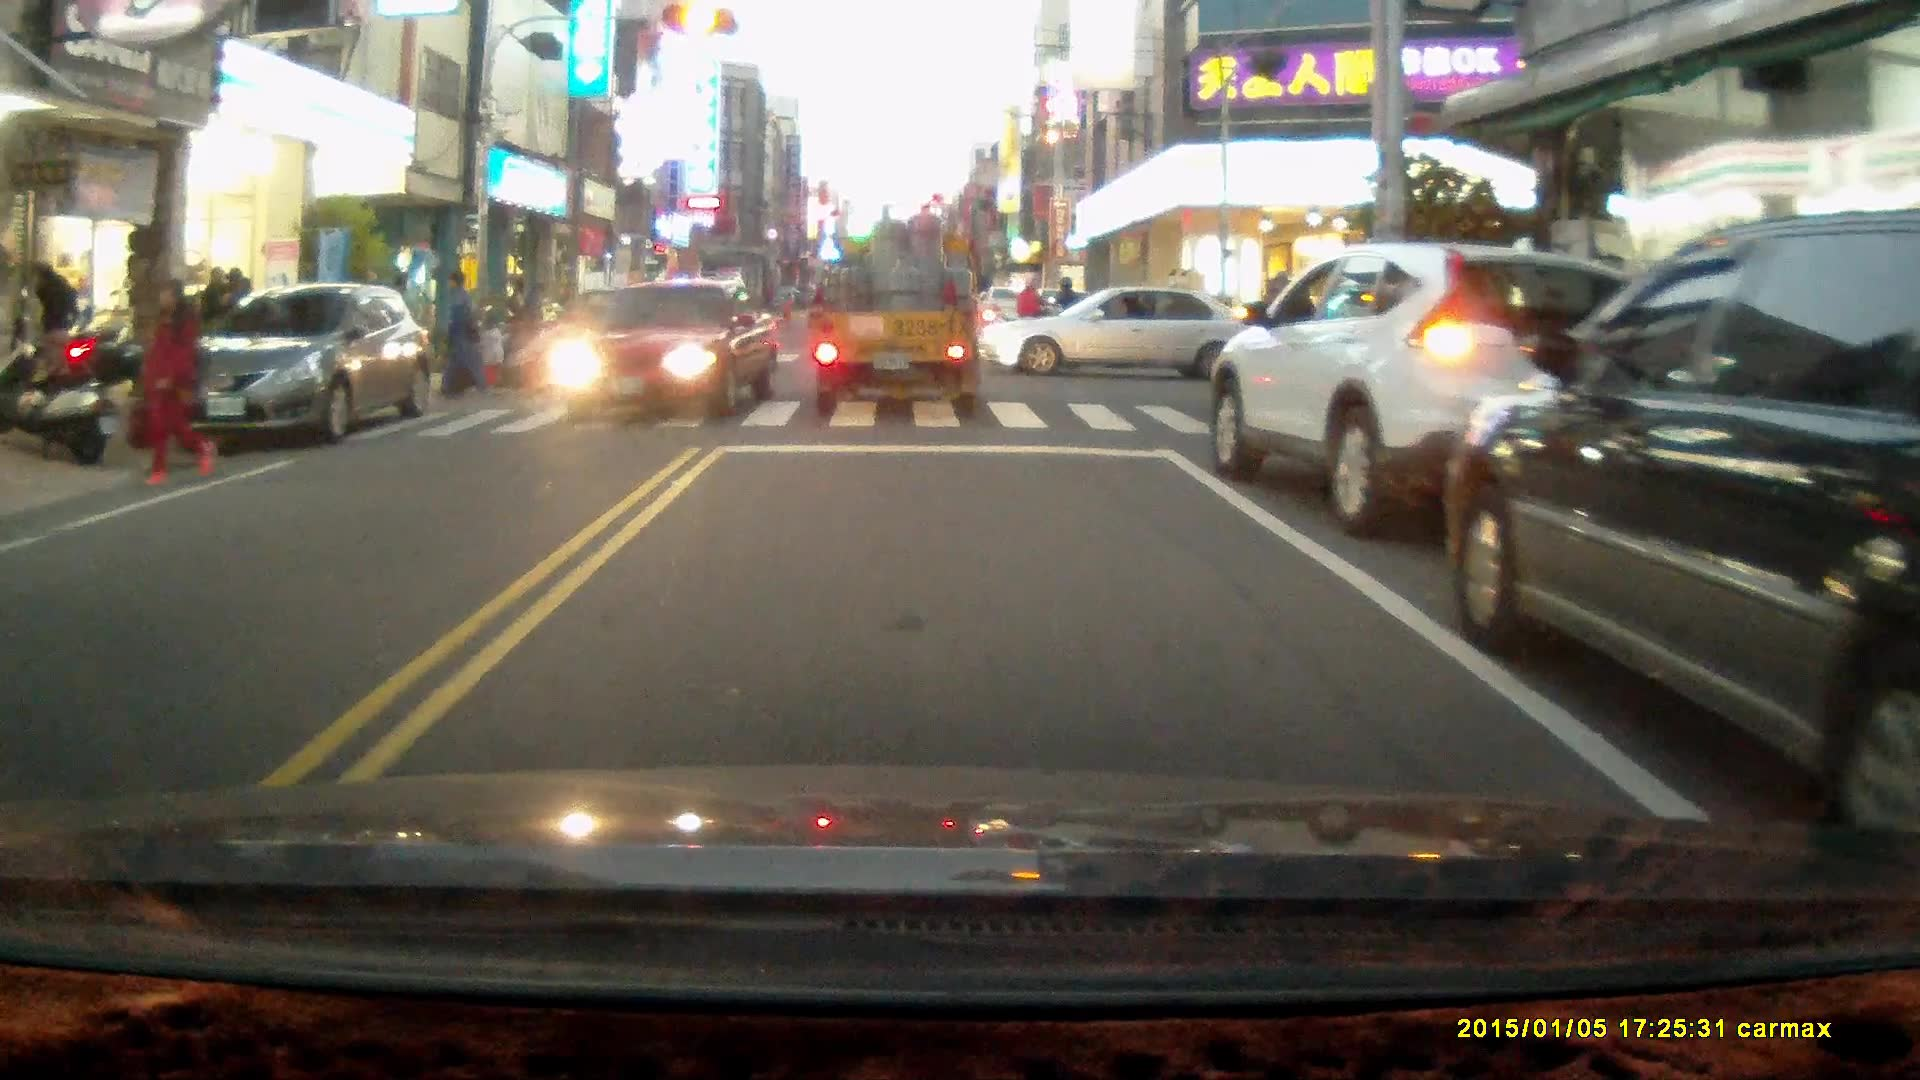pedestrian: (133, 273, 217, 484), (433, 266, 486, 401), (31, 261, 79, 389), (475, 316, 507, 385)
rider: (986, 267, 1072, 357)
vehicle: (1450, 209, 1920, 833), (1208, 246, 1695, 540), (167, 286, 427, 456), (811, 197, 984, 430), (546, 279, 780, 424), (987, 288, 1270, 389)
